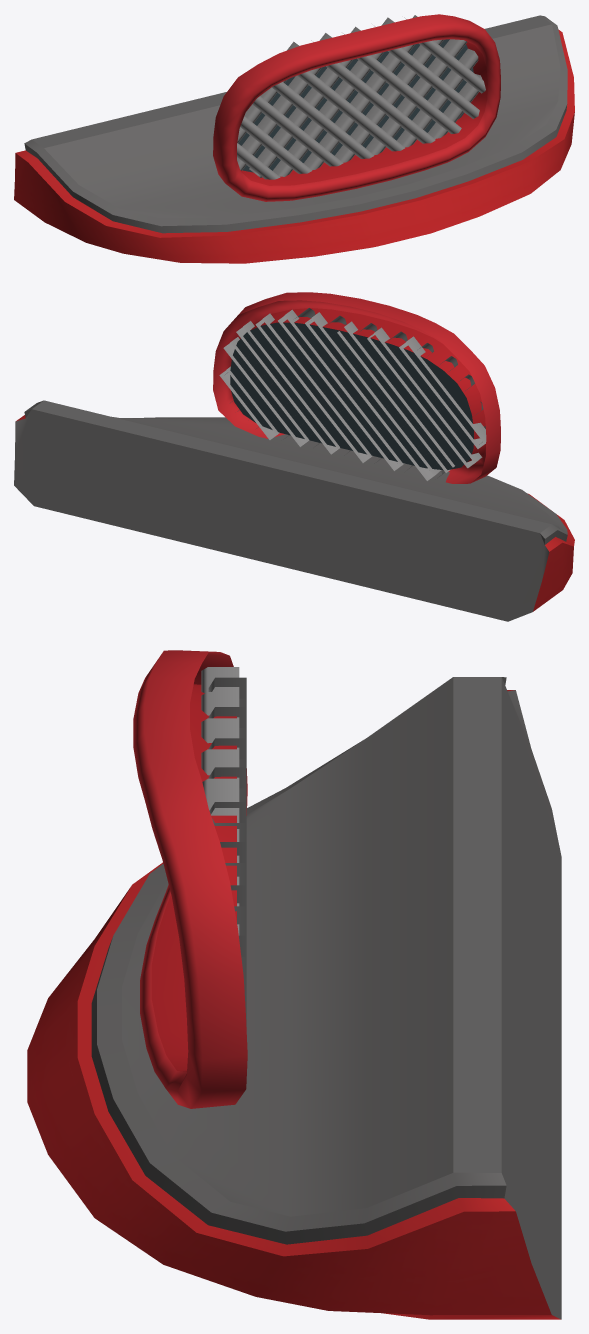
Rendered from Car_02_FrontBumper_Simple.fbx.
3 renders of one model, top to bottom at view 1: azimuth 30°, elevation 25°; view 2: azimuth 150°, elevation 25°; view 3: azimuth 270°, elevation 25°, orthographic. The views are drawn at different scales.
Visible parts, largest first — view 1: Car_02_FrontBumper_Simple; view 2: Car_02_FrontBumper_Simple; view 3: Car_02_FrontBumper_Simple.
Part boxes in pixels (<box>): Car_02_FrontBumper_Simple: <box>14,14,574,263</box>; Car_02_FrontBumper_Simple: <box>14,292,574,621</box>; Car_02_FrontBumper_Simple: <box>27,650,561,1319</box>.
Bounding box in the file's own units: 204 × 88.51 × 68.07.
